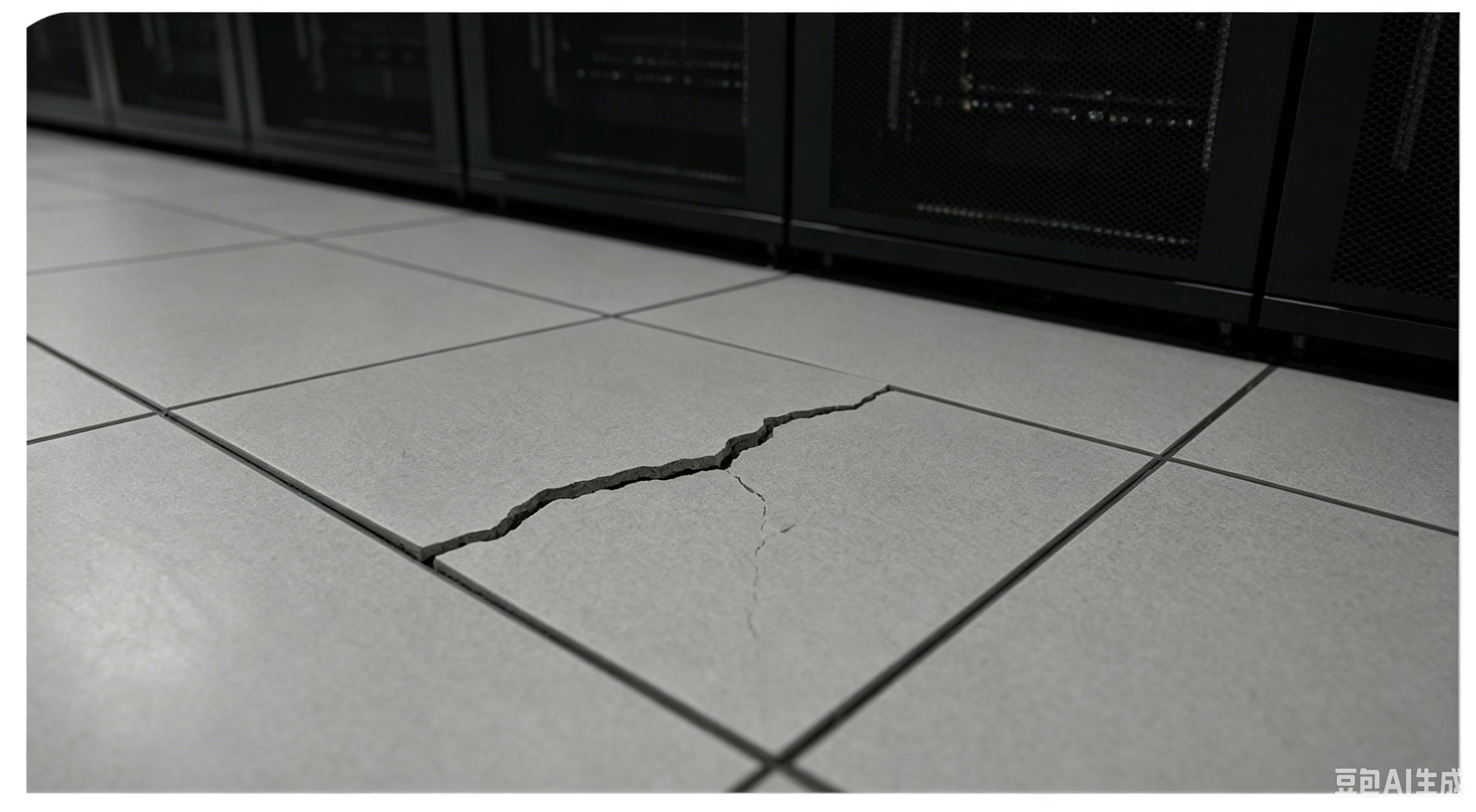floor_defect: (421, 432, 743, 580), (723, 378, 917, 459)
